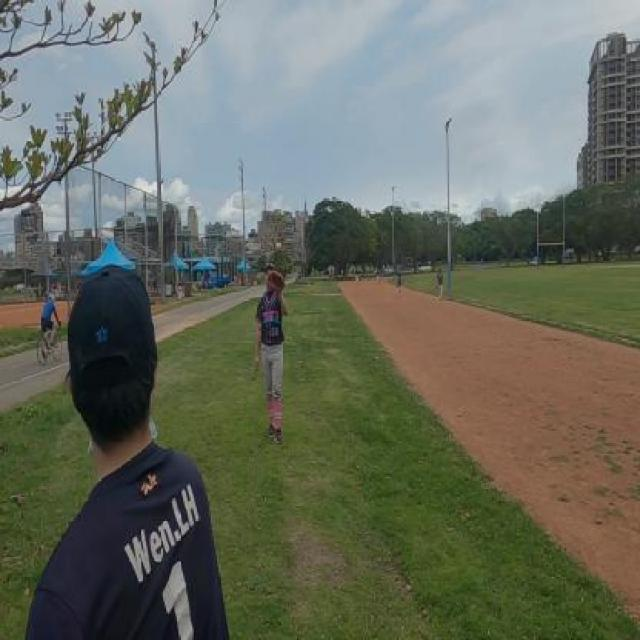baseball: (276, 242, 282, 252)
